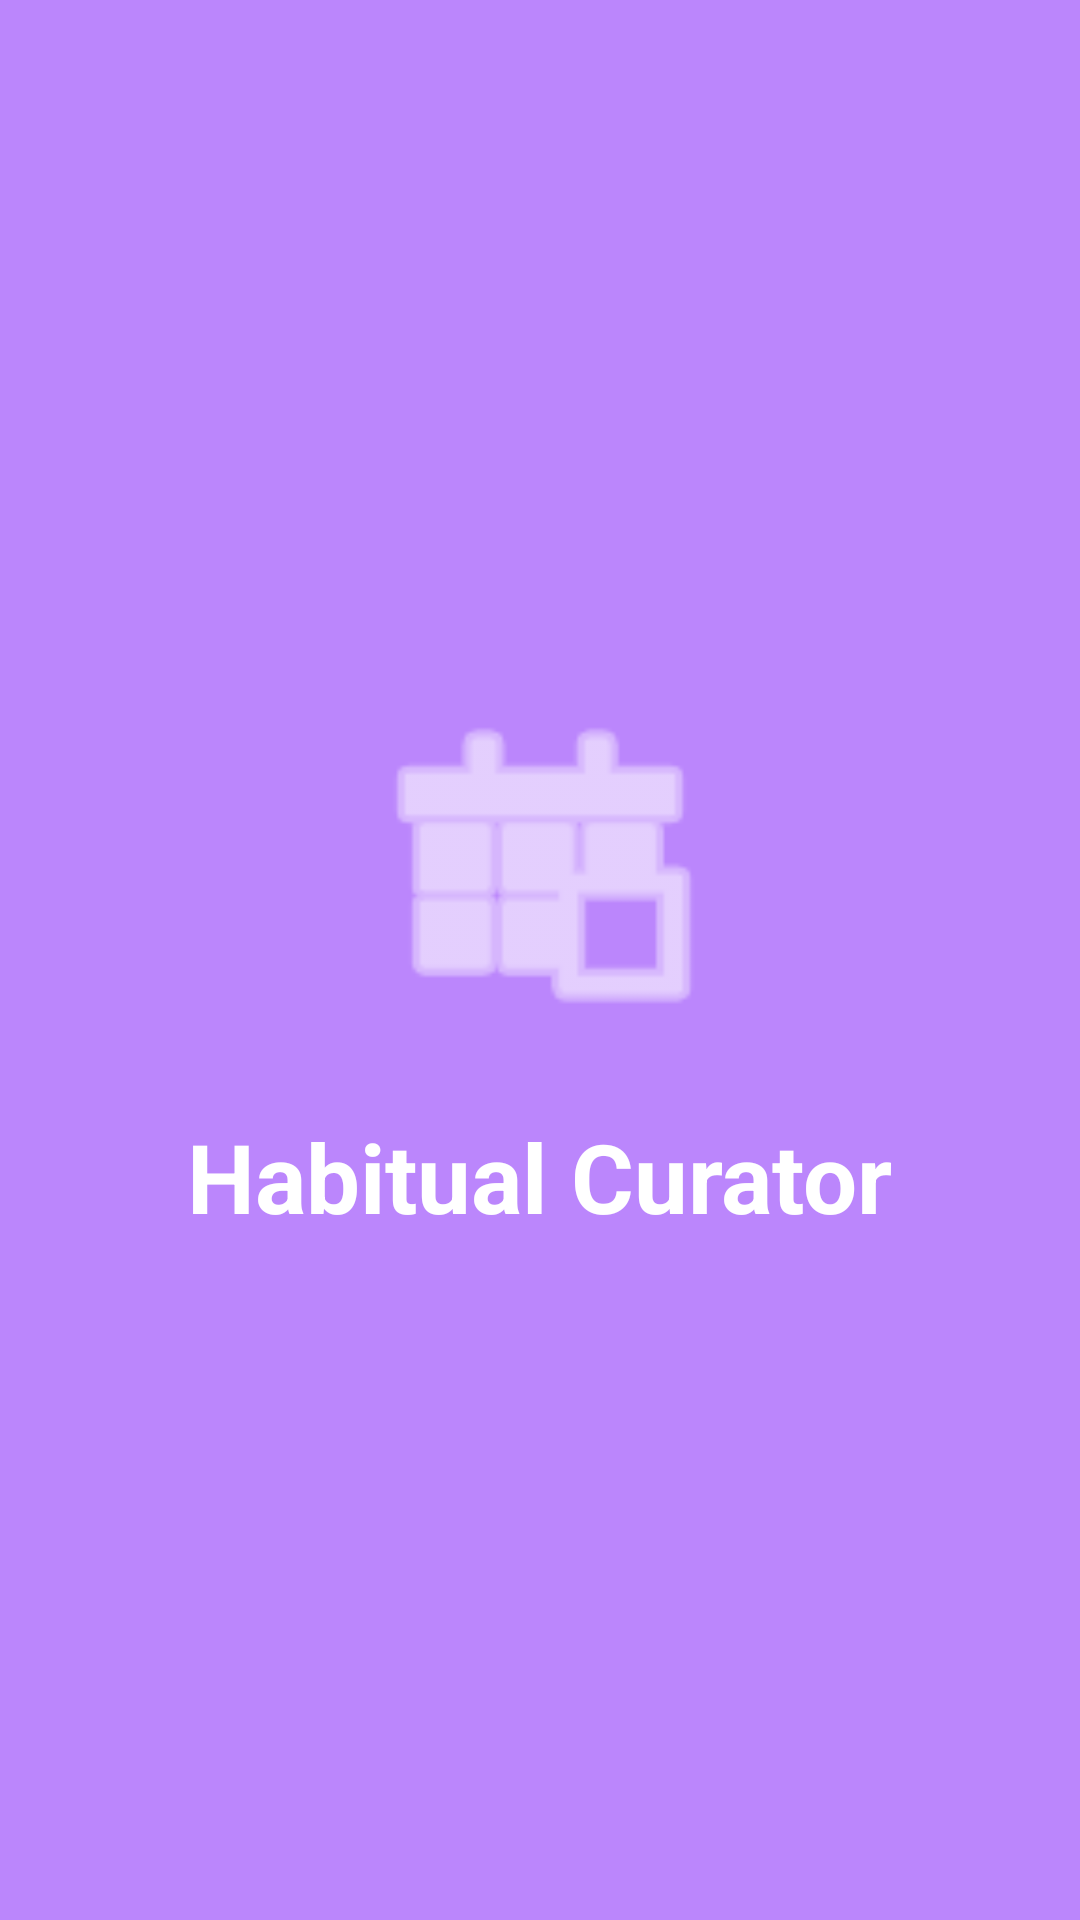

Locate icon controls on the screen. Image size 1080px x 1920px, boxes as rect(x1, y1, x2, y2).
today: rect(397, 730, 690, 1001)
